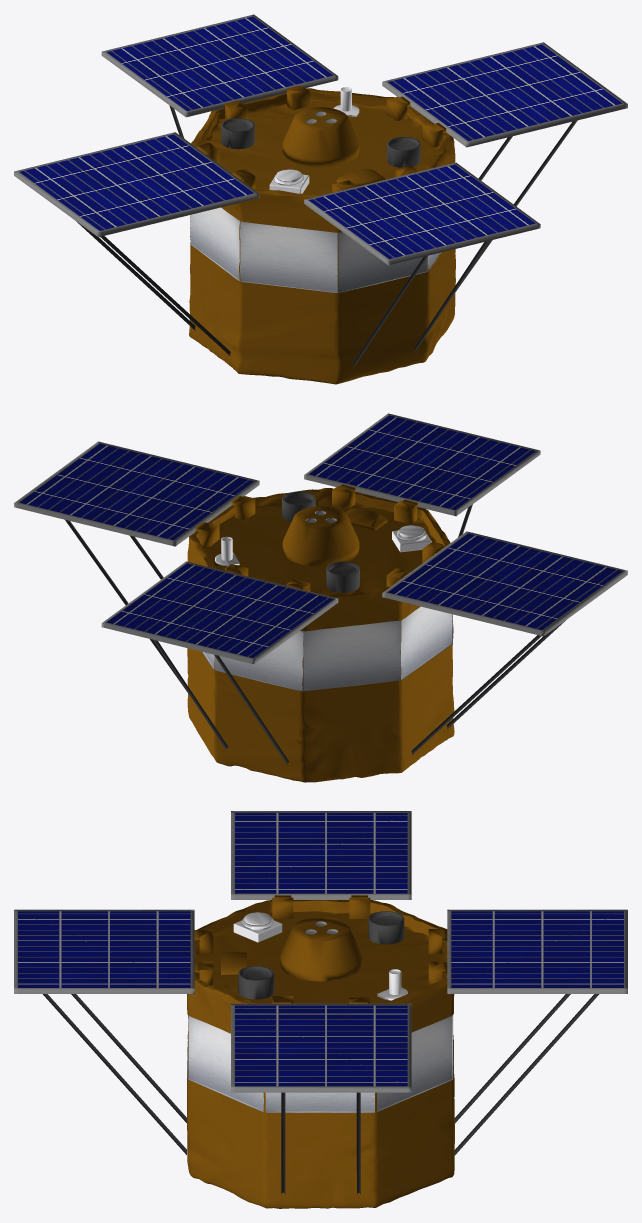
The model's file is satellite.obj.
3 views of the same model, one above another, from view 1: azimuth 30°, elevation 25°; view 2: azimuth 150°, elevation 25°; view 3: azimuth 270°, elevation 25° (orthographic). The views are drawn at different scales.
Parts seen in each view (by area): view 1: obj1, obj2, obj4, obj3, obj5, obj25, obj13, obj17, obj23, obj15, obj7, obj6 (+2 smaller); view 2: obj1, obj2, obj4, obj3, obj5, obj25, obj12, obj17, obj23, obj15, obj6, obj11 (+2 smaller); view 3: obj1, obj4, obj2, obj3, obj5, obj25, obj23, obj17, obj8, obj10, obj15, obj18 (+3 smaller).
Boxes of the visible parts, x1=… form: obj1: x1=189, y1=88, x2=455, y2=384; obj2: x1=19, y1=134, x2=253, y2=230; obj4: x1=388, y1=44, x2=622, y2=140; obj3: x1=106, y1=16, x2=333, y2=110; obj5: x1=309, y1=164, x2=535, y2=259; obj25: x1=14, y1=14, x2=627, y2=265; obj13: x1=240, y1=221, x2=337, y2=292; obj17: x1=282, y1=107, x2=359, y2=167; obj23: x1=76, y1=105, x2=577, y2=366; obj15: x1=196, y1=85, x2=446, y2=192; obj7: x1=338, y1=232, x2=427, y2=292; obj6: x1=190, y1=207, x2=239, y2=280; obj1: x1=187, y1=488, x2=454, y2=782; obj2: x1=388, y1=533, x2=622, y2=629; obj4: x1=19, y1=443, x2=253, y2=540; obj3: x1=106, y1=563, x2=333, y2=657; obj5: x1=309, y1=415, x2=535, y2=509; obj25: x1=14, y1=413, x2=627, y2=664; obj12: x1=303, y1=620, x2=400, y2=691; obj17: x1=282, y1=506, x2=359, y2=566; obj23: x1=65, y1=504, x2=565, y2=765; obj15: x1=195, y1=484, x2=445, y2=591; obj6: x1=401, y1=606, x2=453, y2=679; obj11: x1=215, y1=631, x2=303, y2=691; obj1: x1=187, y1=900, x2=454, y2=1208; obj4: x1=235, y1=1005, x2=407, y2=1086; obj2: x1=235, y1=813, x2=407, y2=893; obj3: x1=451, y1=911, x2=623, y2=987; obj5: x1=18, y1=911, x2=190, y2=987; obj25: x1=14, y1=811, x2=627, y2=1092; obj23: x1=43, y1=994, x2=599, y2=1194; obj17: x1=280, y1=917, x2=362, y2=981; obj8: x1=188, y1=1015, x2=263, y2=1111; obj10: x1=377, y1=1015, x2=453, y2=1111; obj15: x1=194, y1=895, x2=447, y2=1003; obj18: x1=238, y1=911, x2=404, y2=999.
Size of the model in its own units: 11051 by 4223 by 10352.
